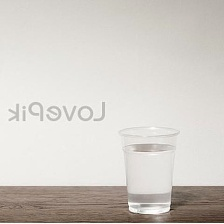glass: (107, 120, 185, 220)
